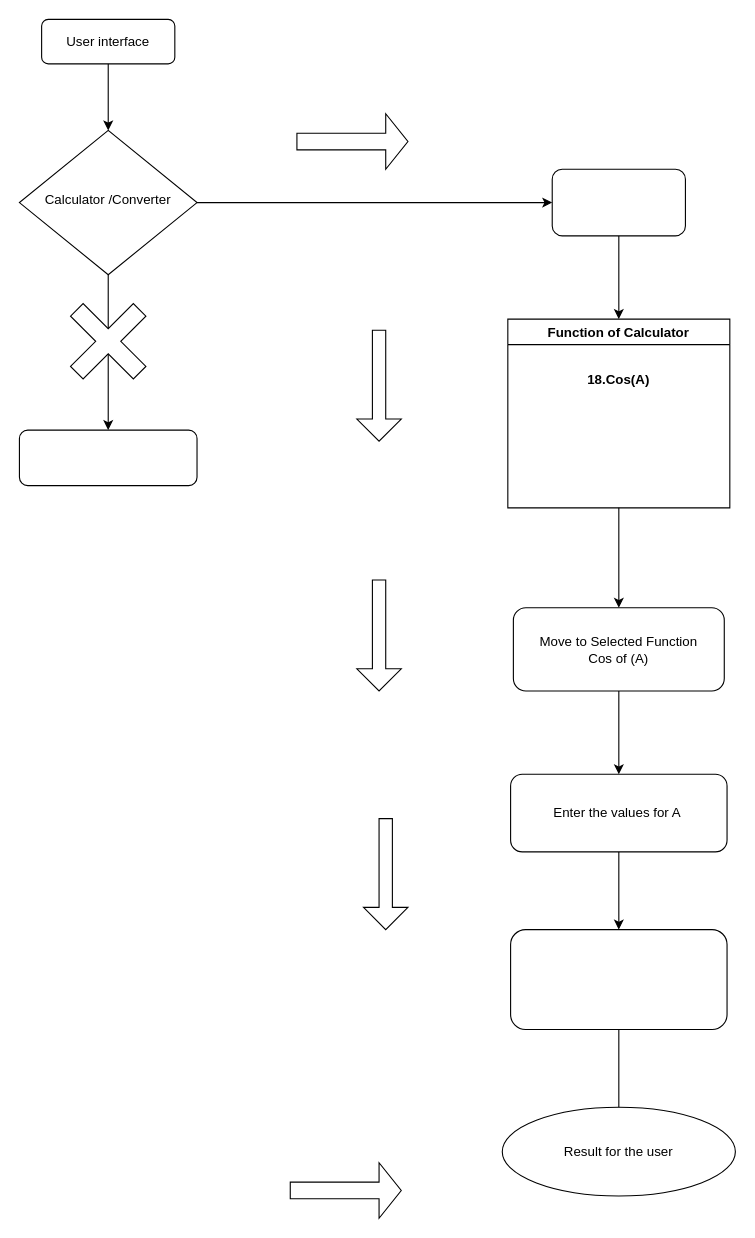
This 755x1238 diagram has some shape labels left out. The shapes that lost their labels are listed below. From the top down, each one's box as (x1, y1, x2, y2) in pixels, then its label:
(551, 168, 685, 236): Calculator
(18, 429, 197, 486): Converter
(509, 929, 727, 1030): result = sin(A * 3.14159 / 180)
